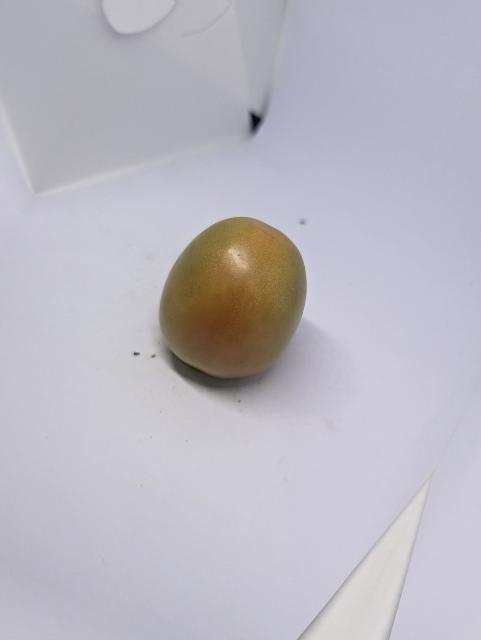breaker: (156, 216, 312, 380)
